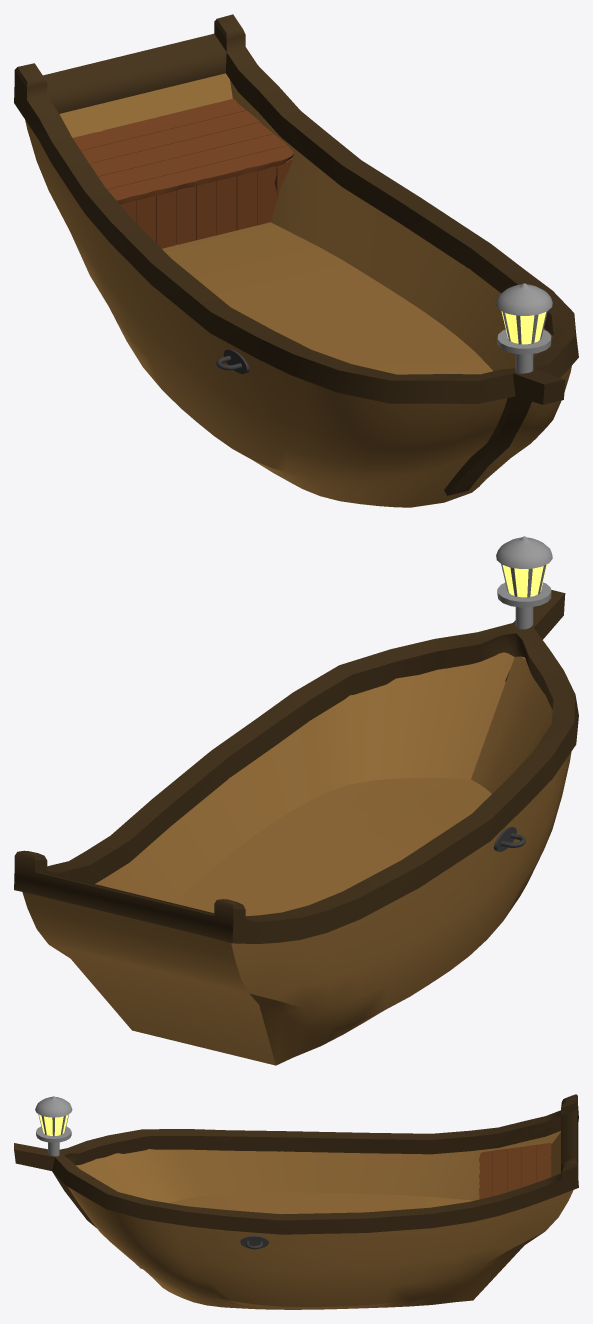
File: Boat.fbx
The picture shows the model from 3 angles, top to bottom: view 1: azimuth 30°, elevation 25°; view 2: azimuth 150°, elevation 25°; view 3: azimuth 270°, elevation 25°; orthographic projection. The views are drawn at different scales.
Visible parts, largest first — view 1: Boat, Cube, Cube_dmg, Cube.006_dmg, Cylinder; view 2: Boat, Cube, Cylinder; view 3: Boat, Cube, Cube_dmg, Cylinder, Cylinder.002.
Part boxes in pixels (left/top/right/bottom): Boat: left=25, top=73, right=571, bottom=507; Cube: left=14, top=14, right=578, bottom=495; Cube_dmg: left=73, top=98, right=293, bottom=204; Cube.006_dmg: left=120, top=166, right=276, bottom=248; Cylinder: left=496, top=283, right=552, bottom=373; Boat: left=22, top=652, right=571, bottom=1065; Cube: left=14, top=589, right=578, bottom=943; Cylinder: left=496, top=536, right=552, bottom=629; Boat: left=68, top=1131, right=573, bottom=1309; Cube: left=14, top=1094, right=578, bottom=1268; Cube_dmg: left=479, top=1143, right=551, bottom=1199; Cylinder: left=35, top=1096, right=72, bottom=1156; Cylinder.002: left=240, top=1236, right=268, bottom=1249.
Bounding box in the file's own units: 813 × 706 × 1985.
